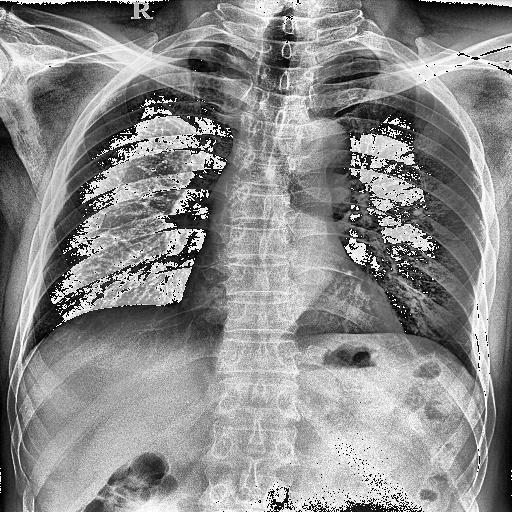11- Pleural thickening: (143, 26, 235, 76), (340, 41, 433, 88)
13- Pulmonary fibrosis: (154, 68, 206, 110)
2- Calcification: (78, 122, 184, 182), (73, 128, 180, 178), (406, 201, 430, 220), (406, 204, 431, 220)
8- Nodule-Mass: (406, 205, 428, 217)
9- Other lesion: (98, 118, 194, 184)
